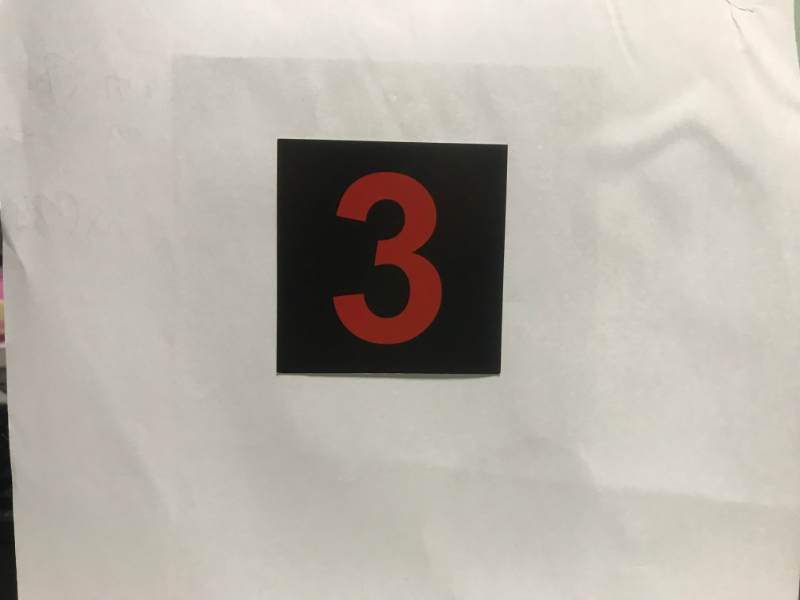Three-8: (281, 145, 498, 372)
